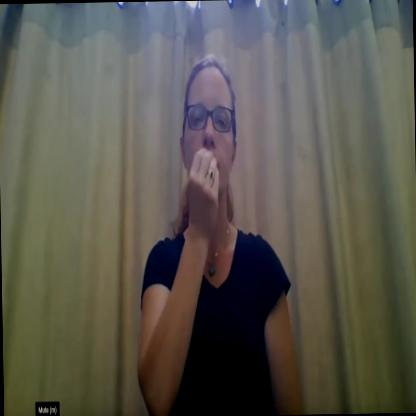Food: (176, 44, 260, 262)
